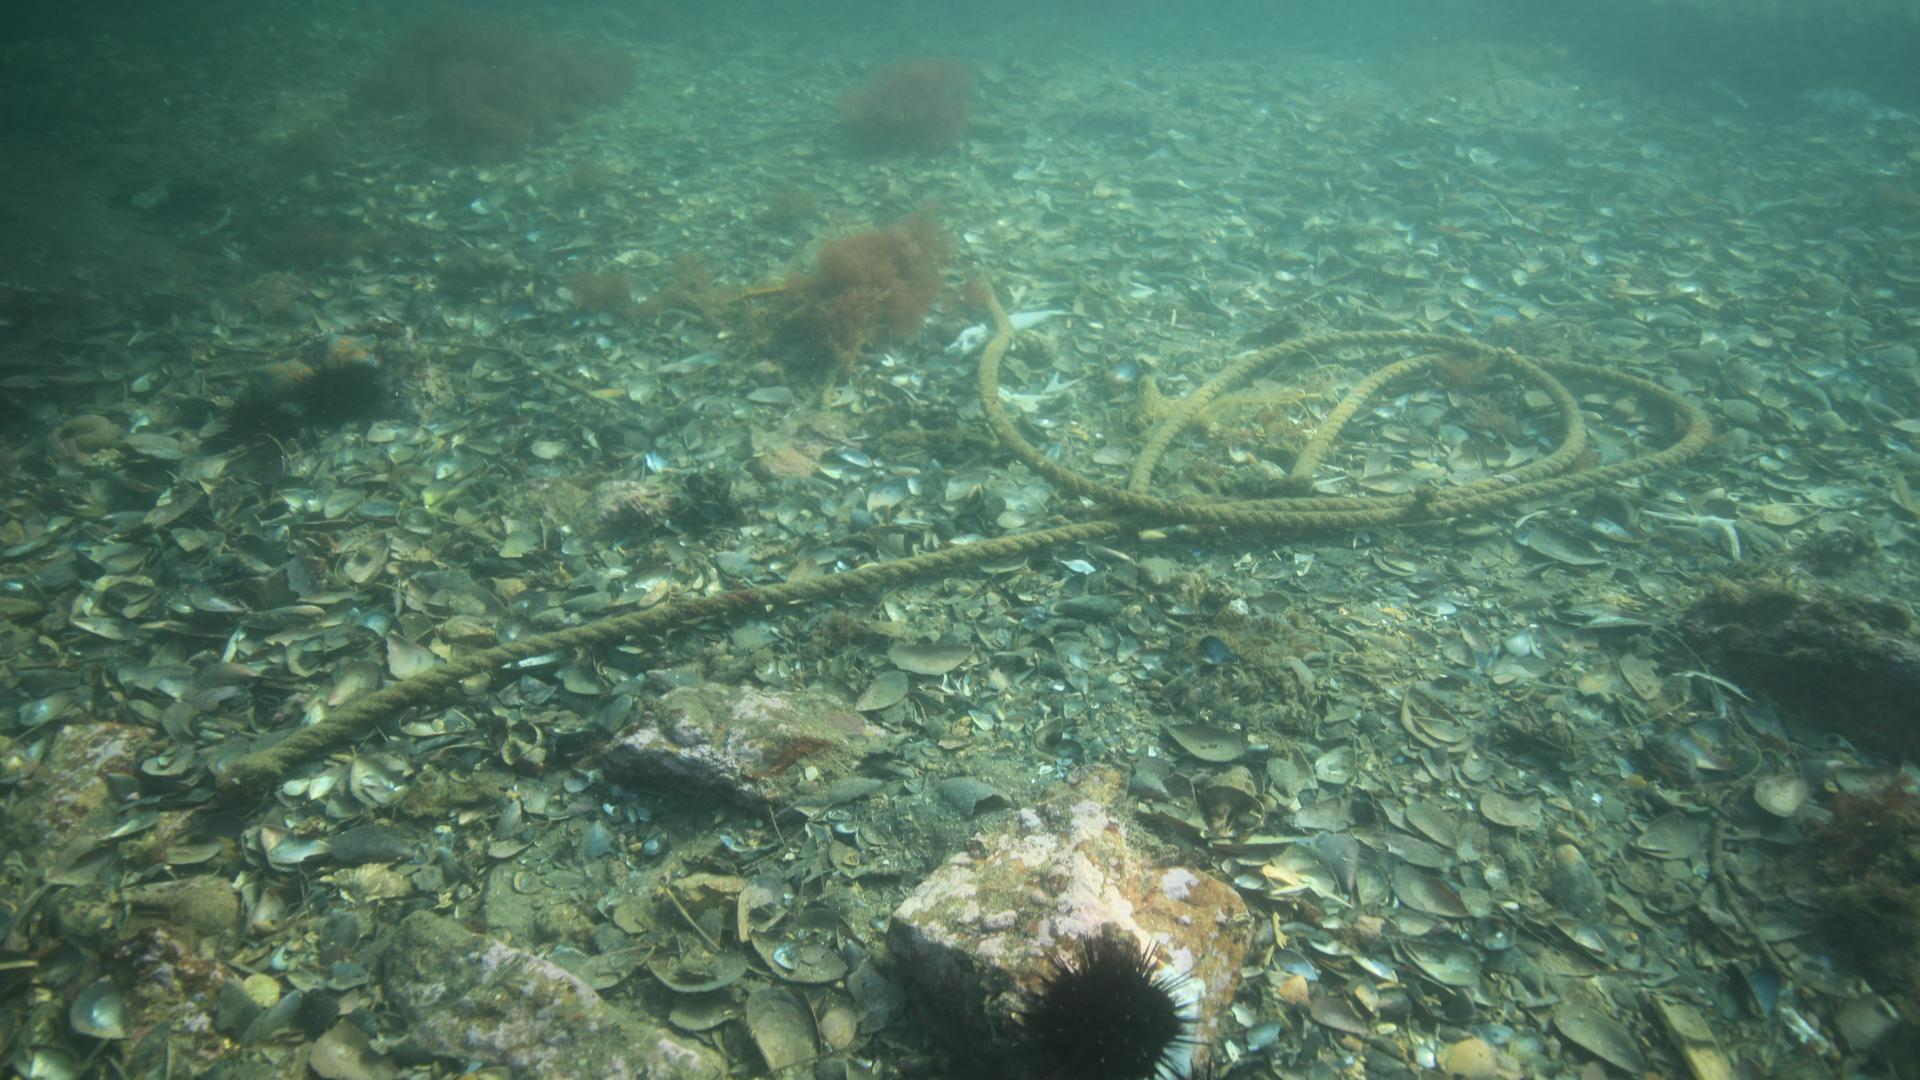bundle of ropes: (210, 261, 1720, 793)
